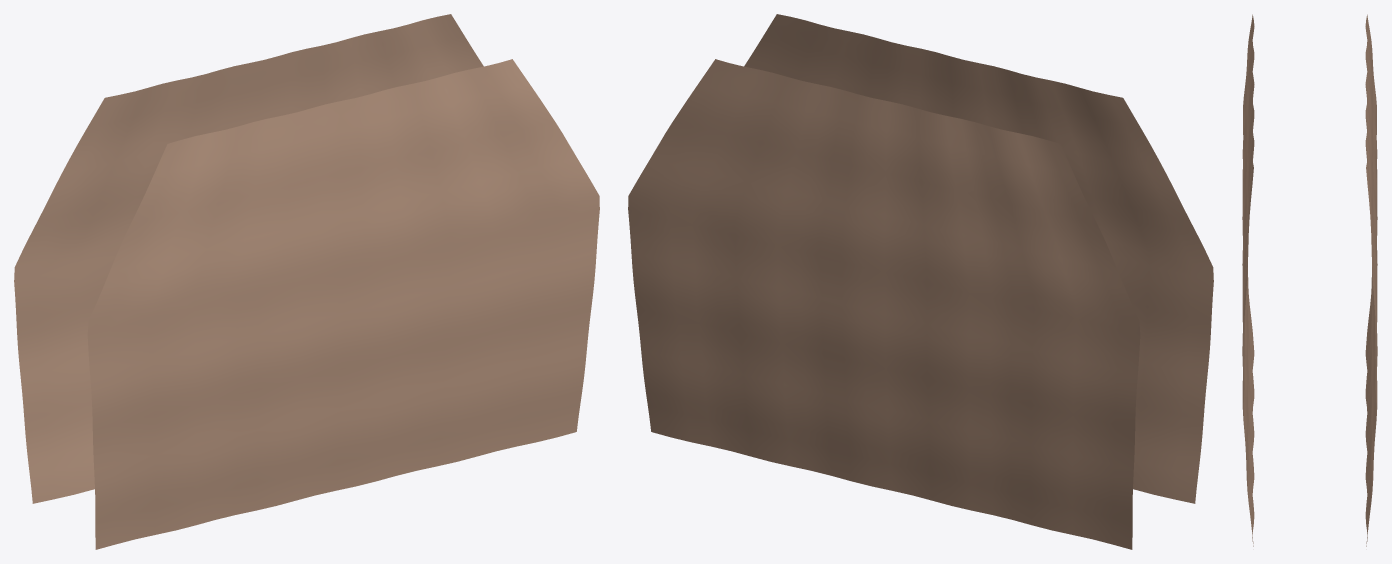
File: clean.glb
3 views of the same model, side by side, from view 1: azimuth 30°, elevation 25°; view 2: azimuth 150°, elevation 25°; view 3: azimuth 270°, elevation 25° (orthographic). The views are drawn at different scales.
Parts seen in each view (by area): view 1: clean:manual-sleeveless-03.front, clean:manual-sleeveless-03.back; view 2: clean:manual-sleeveless-03.back, clean:manual-sleeveless-03.front; view 3: clean:manual-sleeveless-03.front, clean:manual-sleeveless-03.back.
Part boxes in pixels (left/top/right/bottom): clean:manual-sleeveless-03.front: left=87, top=59, right=599, bottom=549; clean:manual-sleeveless-03.back: left=14, top=14, right=483, bottom=503; clean:manual-sleeveless-03.back: left=628, top=59, right=1140, bottom=549; clean:manual-sleeveless-03.front: left=744, top=14, right=1213, bottom=503; clean:manual-sleeveless-03.front: left=1242, top=14, right=1254, bottom=546; clean:manual-sleeveless-03.back: left=1365, top=14, right=1377, bottom=546.
Size of the model in its own units: 1.02 by 0.74 by 0.2561.
